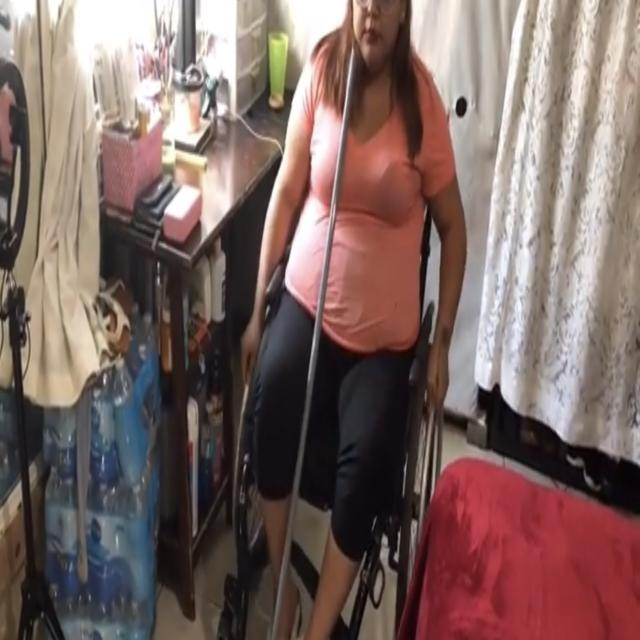wheelchairs: (215, 79, 468, 640)
